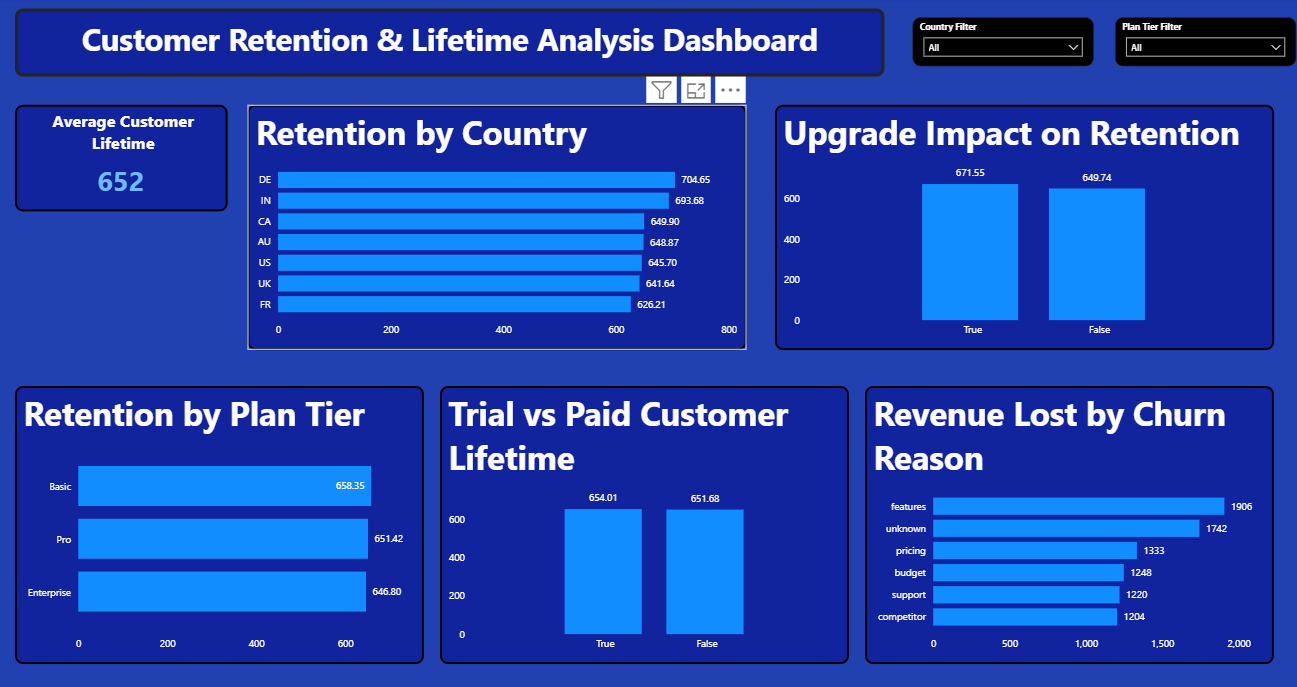

Layout of this report page (visuals, bound fields, positions):
{"tool":"powerbi","page":{"name":"Page 2","canvas":[1600,900],"ordinal":1},"visuals":[{"type":"cardVisual","title":"Average Customer Lifetime","fields":{"Data":["ravenstack_subscriptions.Average Customer Lifetime"]},"box":[30,133.3,260,130],"z":0},{"type":"clusteredBarChart","title":"Retention by Plan Tier","fields":{"Category":["ravenstack_subscriptions.plan_tier"],"Y":["Avg(ravenstack_subscriptions.Customer Lifetime Days)"]},"box":[30,476.7,500,340],"z":1000},{"type":"clusteredBarChart","title":"Retention by Country","fields":{"Category":["ravenstack_accounts.country"],"Y":["Avg(ravenstack_subscriptions.Customer Lifetime Days)"]},"box":[315,133.3,610,300],"z":2000},{"type":"clusteredColumnChart","title":"Trial vs Paid Customer Lifetime","fields":{"Category":["ravenstack_subscriptions.is_trial"],"Y":["Avg(ravenstack_subscriptions.Customer Lifetime Days)"]},"box":[550,476.7,500,340],"z":3000},{"type":"clusteredColumnChart","title":"Upgrade Impact on Retention","fields":{"Category":["ravenstack_subscriptions.upgrade_flag"],"Y":["Avg(ravenstack_subscriptions.Customer Lifetime Days)"]},"box":[960,133.3,610,300],"z":4000},{"type":"clusteredBarChart","title":"Revenue Lost by Churn Reason","fields":{"Category":["ravenstack_churn_events.reason_code"],"Y":["Sum(ravenstack_churn_events.refund_amount_usd)"]},"box":[1070,476.7,500,340],"z":5000},{"type":"textbox","box":[30,15,1063.3,83.3],"z":6000},{"type":"slicer","title":"Country Filter","fields":{"Values":["ravenstack_accounts.country"]},"box":[1128.3,26.7,221.7,60],"z":7000},{"type":"slicer","title":"Plan Tier Filter","fields":{"Values":["ravenstack_accounts.plan_tier"]},"box":[1375,26.7,221.7,60],"z":8000}]}

Visuals, with their boxes on the page's 1600x900 design canvas (x1, y1, x2, y2). These are canvas units, not pixel positions in the 1297x687 screenshot, which may show the page scaled, cropped or inside an application window:
"Average Customer Lifetime" cardVisual: Rect(30, 133, 290, 263)
"Retention by Plan Tier" clusteredBarChart: Rect(30, 477, 530, 817)
"Retention by Country" clusteredBarChart: Rect(315, 133, 925, 433)
"Trial vs Paid Customer Lifetime" clusteredColumnChart: Rect(550, 477, 1050, 817)
"Upgrade Impact on Retention" clusteredColumnChart: Rect(960, 133, 1570, 433)
"Revenue Lost by Churn Reason" clusteredBarChart: Rect(1070, 477, 1570, 817)
textbox: Rect(30, 15, 1093, 98)
"Country Filter" slicer: Rect(1128, 27, 1350, 87)
"Plan Tier Filter" slicer: Rect(1375, 27, 1597, 87)
